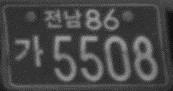0: (104, 34, 131, 82)
5: (78, 34, 104, 83), (52, 34, 76, 83)
6: (102, 9, 120, 31)
8: (131, 34, 159, 82), (85, 8, 102, 33)
가: (14, 36, 43, 68)
전남_O: (44, 9, 82, 29)
